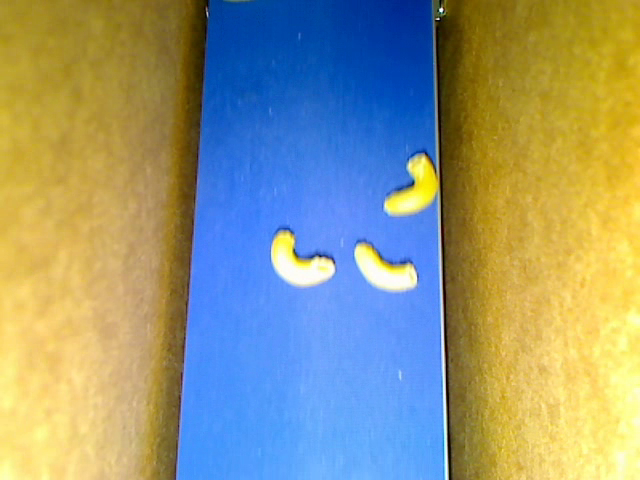elbow: (270, 228, 335, 288), (383, 153, 439, 215), (353, 242, 418, 292)
